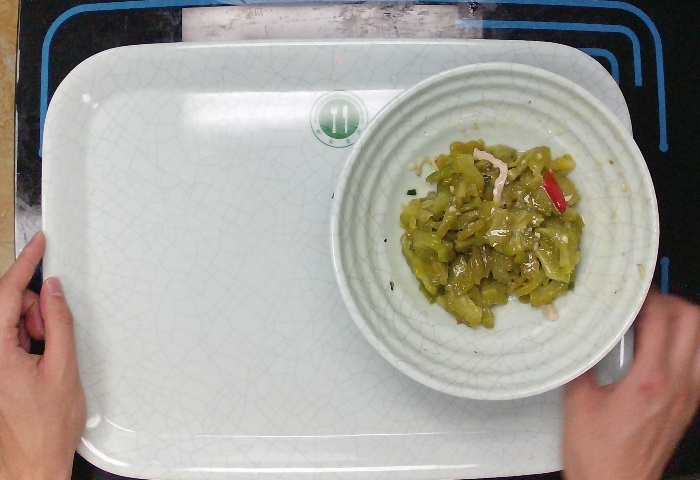JYsf-Da_Tang_Wan: (327, 59, 661, 402)
